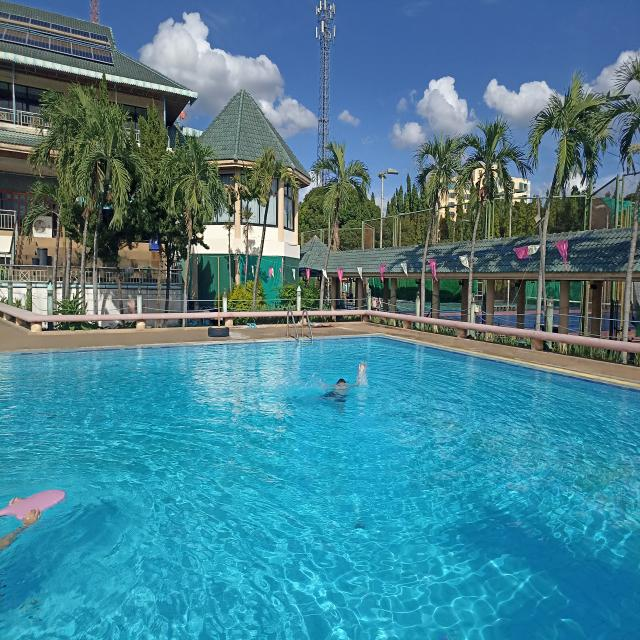Drowning: (309, 356, 372, 410)
